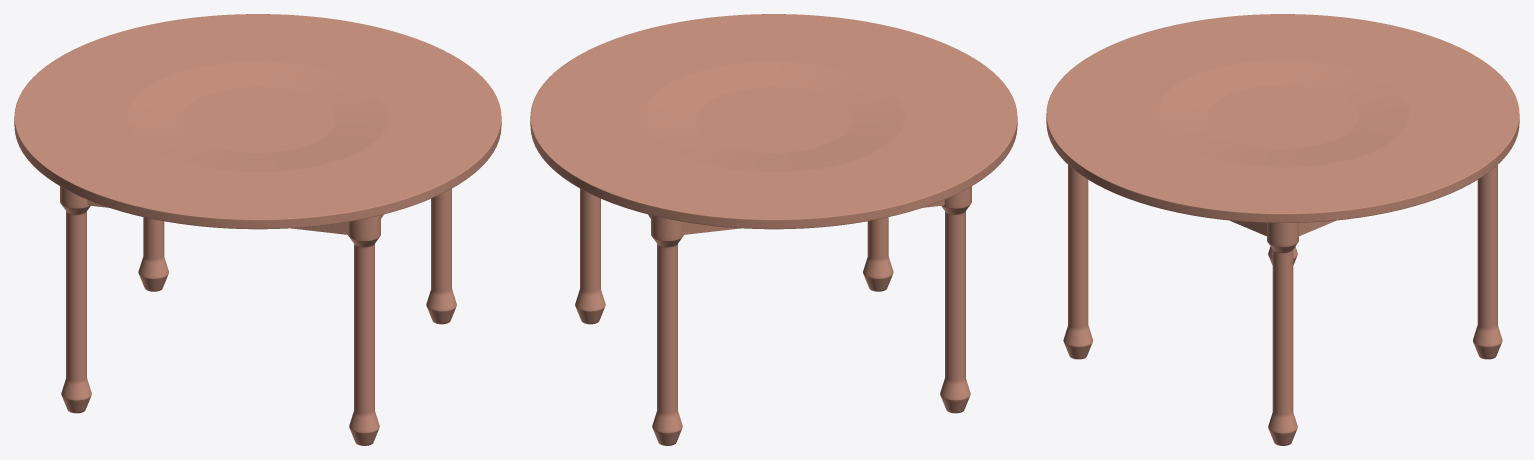
File: drawer888.glb
3 renders of one model, left to right at view 1: azimuth 30°, elevation 25°; view 2: azimuth 150°, elevation 25°; view 3: azimuth 270°, elevation 25°, orthographic. The views are drawn at different scales.
Parts seen in each view (by area): view 1: Table_Circle.004, Leg_Cylinder.001, Support_Cube; view 2: Table_Circle.004, Leg_Cylinder.001, Support_Cube; view 3: Table_Circle.004, Leg_Cylinder.001, Support_Cube.
Part boxes in pixels (x1,y1,x2,y2): Table_Circle.004: (14,14,501,229); Leg_Cylinder.001: (60,186,456,445); Support_Cube: (87,200,383,234); Table_Circle.004: (530,14,1017,229); Leg_Cylinder.001: (575,186,971,445); Support_Cube: (648,200,944,234); Table_Circle.004: (1046,14,1519,222); Leg_Cylinder.001: (1063,165,1502,445); Support_Cube: (1230,220,1335,236).
Size of the model in its own units: 2.59 by 1.46 by 2.59.
